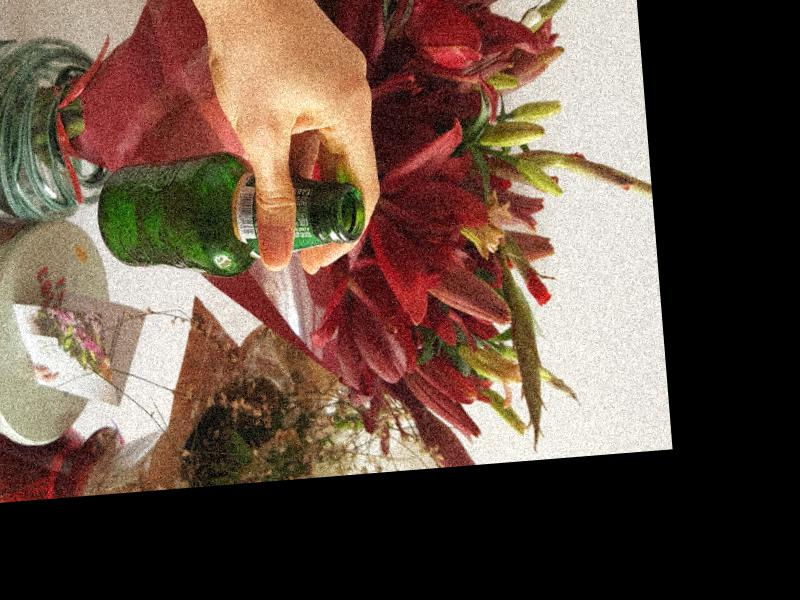Beer: (93, 146, 366, 286)
